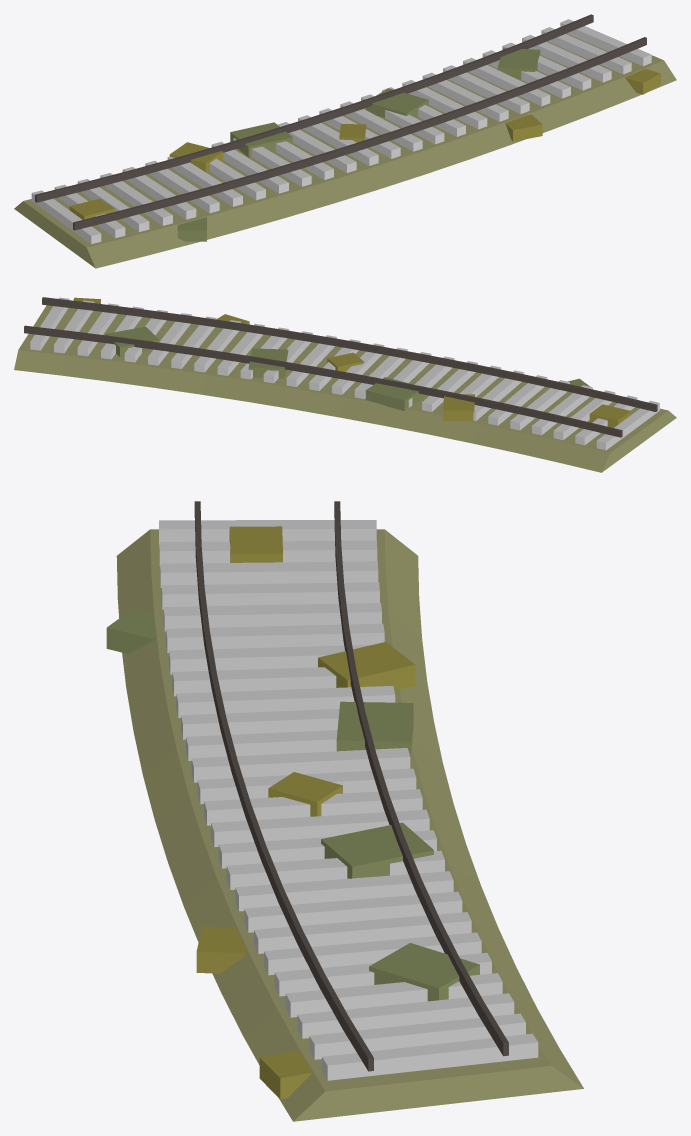
The model's file is SM_Via_CurvaR60_v2_Maleza_LOD0.fbx.
3 renders of one model, top to bottom at view 1: azimuth 30°, elevation 25°; view 2: azimuth 150°, elevation 25°; view 3: azimuth 270°, elevation 25°, orthographic. The views are drawn at different scales.
Visible parts, largest first — view 1: SM_via_trazado_v12_LOD0; view 2: SM_via_trazado_v12_LOD0; view 3: SM_via_trazado_v12_LOD0.
Boxes of the visible parts, bbox=[...] form: SM_via_trazado_v12_LOD0: bbox=[14, 14, 676, 268]; SM_via_trazado_v12_LOD0: bbox=[14, 297, 676, 472]; SM_via_trazado_v12_LOD0: bbox=[106, 501, 583, 1121].
Size of the model in its own units: 16 by 0.72 by 5.7.
